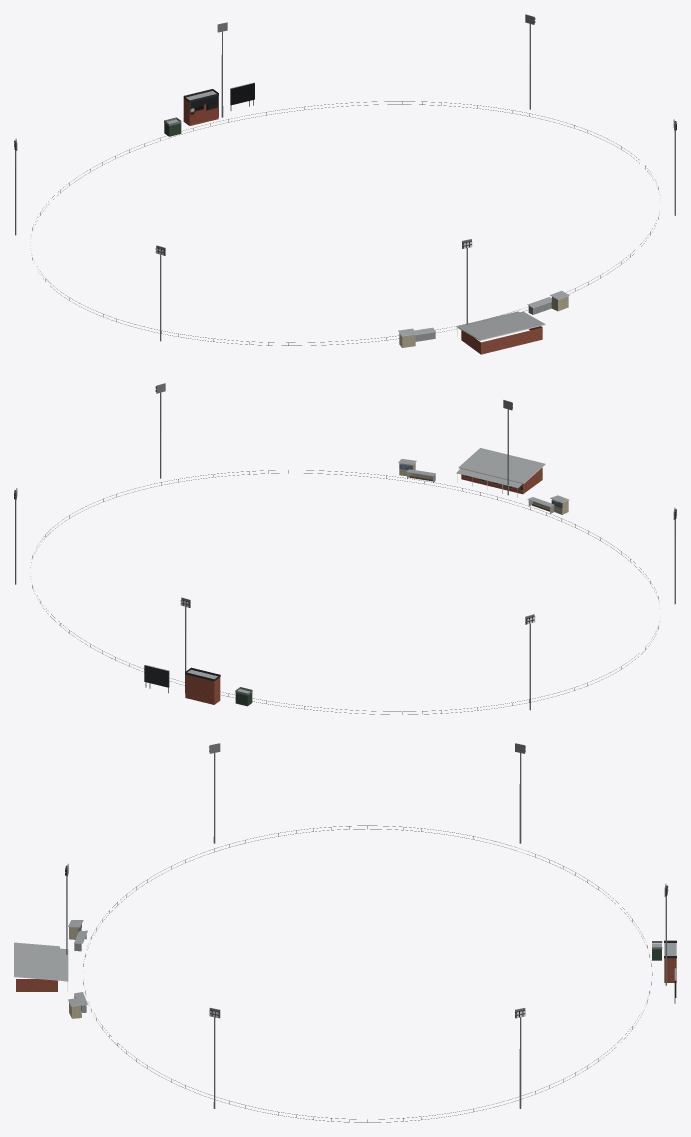
Rendered from oval_t1_council.glb.
3 views of the same model, one above another, from view 1: azimuth 30°, elevation 25°; view 2: azimuth 150°, elevation 25°; view 3: azimuth 270°, elevation 25° (orthographic). The views are drawn at different scales.
Parts seen in each view (by area): view 1: buildings, lights, fence_posts, boxes, panels; view 2: buildings, lights, fence_posts, boxes; view 3: buildings, lights, fence_posts, boxes.
Boxes of the visible parts, box(x1,y1,x2,y2) form: buildings: box(164, 82, 545, 354); lights: box(14, 14, 676, 341); fence_posts: box(32, 101, 658, 345); boxes: box(398, 290, 569, 347); panels: box(189, 83, 254, 124); buildings: box(144, 448, 545, 706); lights: box(14, 383, 676, 710); fence_posts: box(30, 470, 658, 714); boxes: box(398, 459, 569, 514); buildings: box(14, 940, 676, 997); lights: box(65, 743, 675, 1108); fence_posts: box(83, 825, 652, 1122); boxes: box(68, 920, 87, 1018).
Size of what is drawn, in the model's own units: 166 by 26.2 by 158.
13 materials, 13 textured.
